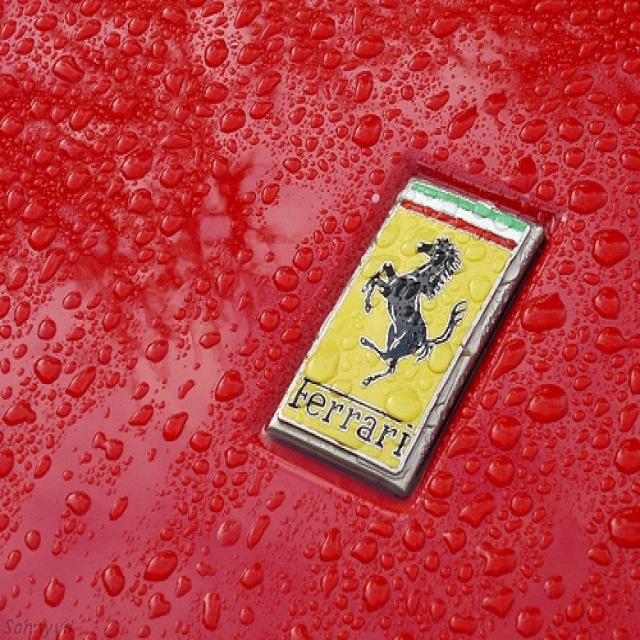ferrari: (279, 172, 532, 477)
